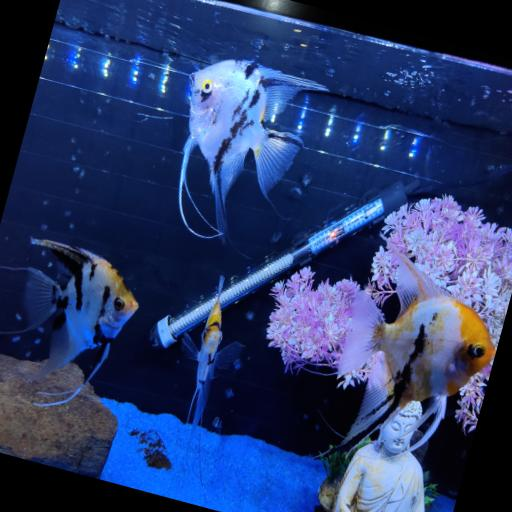Fish: (338, 245, 495, 450), (179, 60, 327, 243), (23, 239, 138, 406), (182, 276, 241, 450)
